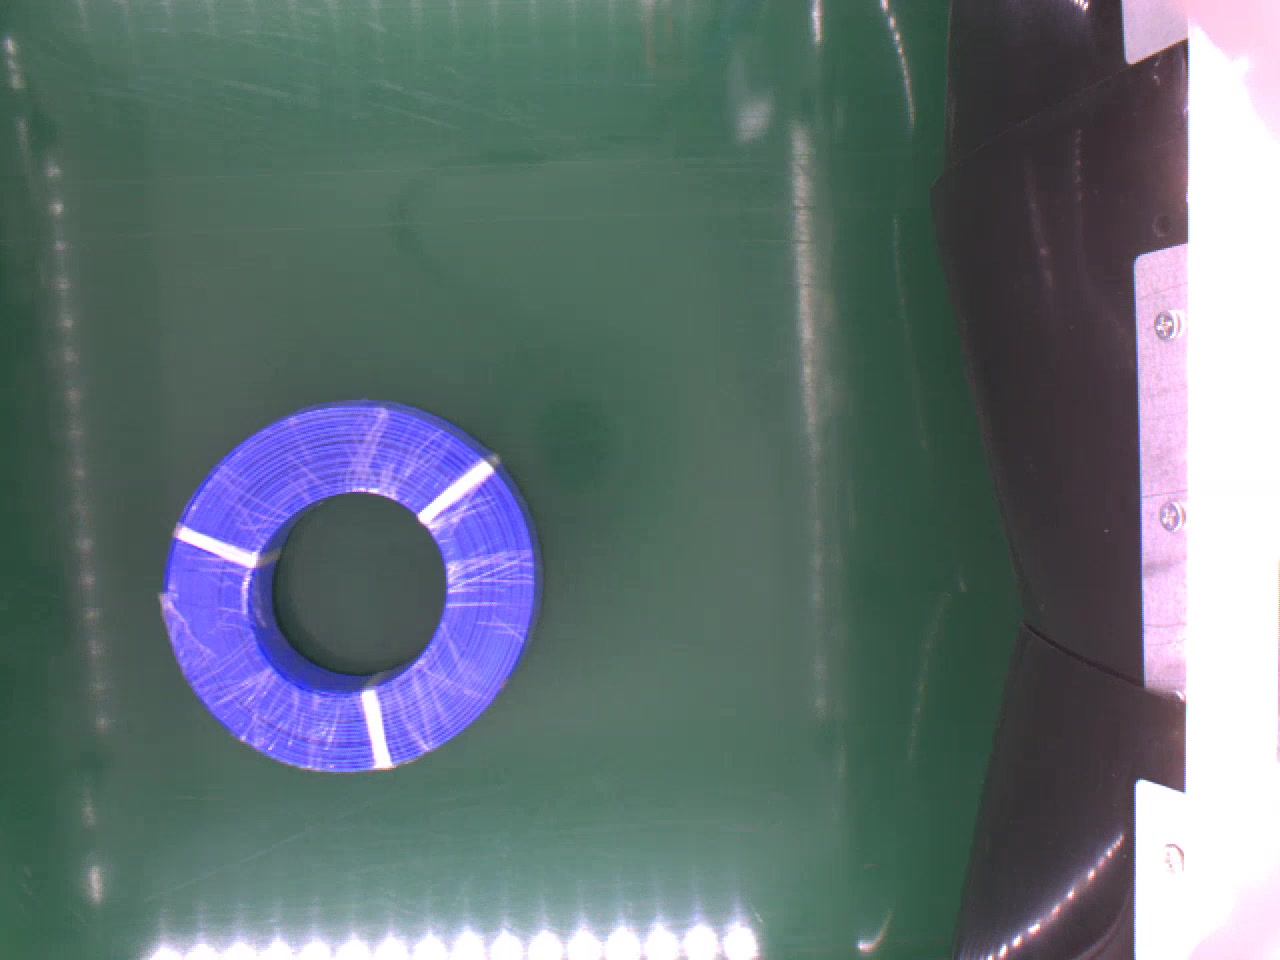blue: (157, 394, 544, 772)
